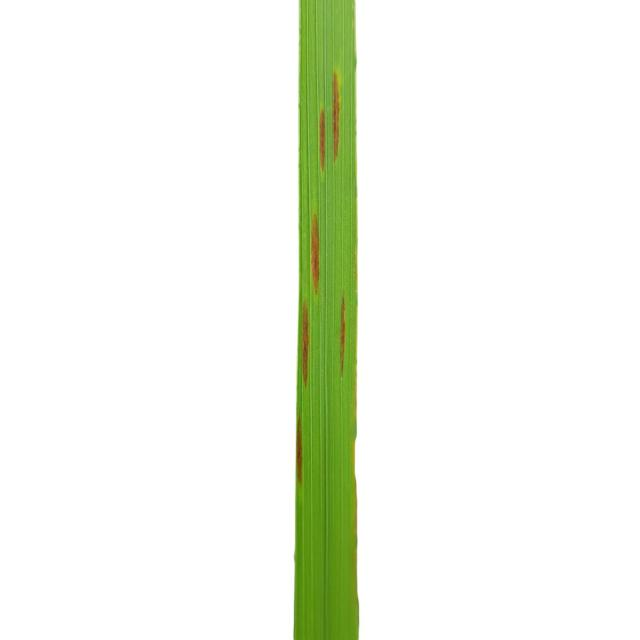Narrow brown: (211, 0, 504, 638)
